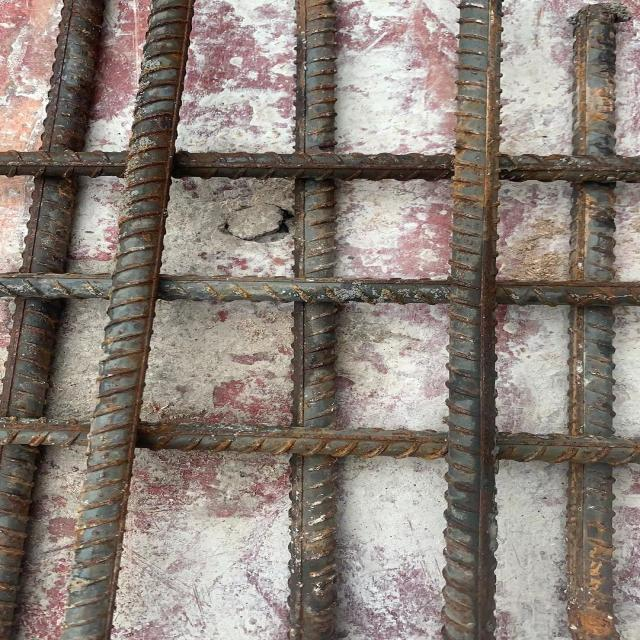ribbed bar: (57, 0, 195, 639), (0, 0, 108, 639), (437, 0, 505, 639), (0, 416, 639, 468), (284, 0, 335, 639), (567, 3, 617, 639), (0, 272, 639, 307), (0, 150, 639, 181)
